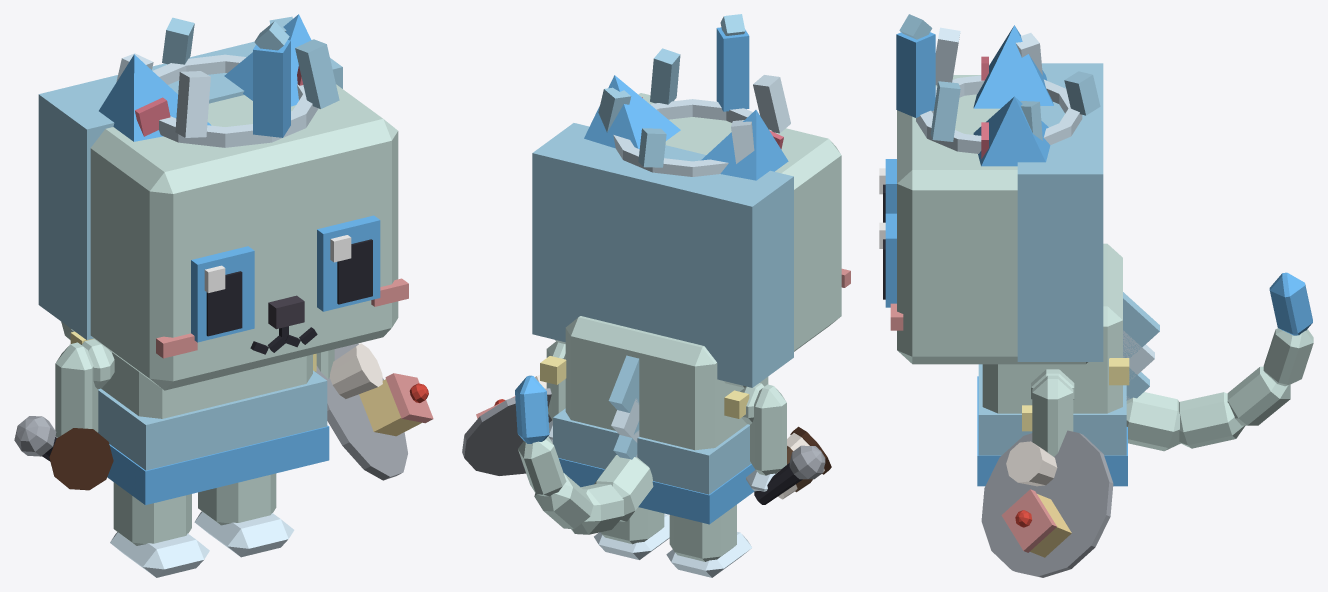
File: CatCafe_Cat_Ice_Work.glb
3 renders of one model, left to right at view 1: azimuth 30°, elevation 25°; view 2: azimuth 150°, elevation 25°; view 3: azimuth 270°, elevation 25°, orthographic. The views are drawn at different scales.
Visible parts, largest first — view 1: CatCafe_Cat_Ice_Work_Head, CatCafe_Cat_Ice_Work_Body, CatCafe_Cat_Ice_Work_Prop2, CatCafe_Cat_Ice_Work_Held_Waiter, CatCafe_Cat_Ice_Work_LegB2, CatCafe_Cat_Ice_Work_LegB1, CatCafe_Cat_Ice_Work_Eye1, CatCafe_Cat_Ice_Work_Eye2, CatCafe_Cat_Ice_Work_EarR, CatCafe_Cat_Ice_Work_Crown_Glow, CatCafe_Cat_Ice_Work_LegF2, CatCafe_Cat_Ice_Work_Held_Barista (+2 smaller); view 2: CatCafe_Cat_Ice_Work_Head, CatCafe_Cat_Ice_Work_Body, CatCafe_Cat_Ice_Work_Tail, CatCafe_Cat_Ice_Work_Prop2, CatCafe_Cat_Ice_Work_LegB2, CatCafe_Cat_Ice_Work_Held_Waiter, CatCafe_Cat_Ice_Work_LegF2, CatCafe_Cat_Ice_Work_Crown_Glow, CatCafe_Cat_Ice_Work_EarL, CatCafe_Cat_Ice_Work_EarR, CatCafe_Cat_Ice_Work_LegB1, CatCafe_Cat_Ice_Work_Prop (+3 smaller); view 3: CatCafe_Cat_Ice_Work_Head, CatCafe_Cat_Ice_Work_Held_Waiter, CatCafe_Cat_Ice_Work_Body, CatCafe_Cat_Ice_Work_Tail, CatCafe_Cat_Ice_Work_Prop2, CatCafe_Cat_Ice_Work_Crown_Glow, CatCafe_Cat_Ice_Work_EarR, CatCafe_Cat_Ice_Work_EarL, CatCafe_Cat_Ice_Work_LegF1, CatCafe_Cat_Ice_Work_Prop, CatCafe_Cat_Ice_Work_Eye1, CatCafe_Cat_Ice_Work_Eye2.
Boxes of the visible parts, x1,y1,x2,y2 form: CatCafe_Cat_Ice_Work_Head: [38, 41, 408, 390]; CatCafe_Cat_Ice_Work_Body: [70, 331, 329, 505]; CatCafe_Cat_Ice_Work_Prop2: [116, 16, 339, 147]; CatCafe_Cat_Ice_Work_Held_Waiter: [315, 343, 433, 480]; CatCafe_Cat_Ice_Work_LegB2: [110, 482, 209, 577]; CatCafe_Cat_Ice_Work_LegB1: [194, 473, 294, 557]; CatCafe_Cat_Ice_Work_Eye1: [317, 215, 380, 311]; CatCafe_Cat_Ice_Work_Eye2: [191, 246, 254, 342]; CatCafe_Cat_Ice_Work_EarR: [99, 54, 211, 141]; CatCafe_Cat_Ice_Work_Crown_Glow: [253, 21, 290, 137]; CatCafe_Cat_Ice_Work_LegF2: [55, 342, 98, 437]; CatCafe_Cat_Ice_Work_Held_Barista: [49, 428, 113, 490]; CatCafe_Cat_Ice_Work_Head: [532, 93, 850, 387]; CatCafe_Cat_Ice_Work_Body: [540, 316, 768, 524]; CatCafe_Cat_Ice_Work_Tail: [515, 375, 653, 534]; CatCafe_Cat_Ice_Work_Prop2: [598, 48, 790, 176]; CatCafe_Cat_Ice_Work_LegB2: [666, 504, 752, 577]; CatCafe_Cat_Ice_Work_Held_Waiter: [462, 375, 552, 475]; CatCafe_Cat_Ice_Work_LegF2: [746, 384, 786, 491]; CatCafe_Cat_Ice_Work_Crown_Glow: [716, 14, 749, 111]; CatCafe_Cat_Ice_Work_EarL: [584, 75, 680, 148]; CatCafe_Cat_Ice_Work_EarR: [701, 110, 788, 180]; CatCafe_Cat_Ice_Work_LegB1: [594, 507, 669, 559]; CatCafe_Cat_Ice_Work_Prop: [608, 355, 639, 459]; CatCafe_Cat_Ice_Work_Head: [890, 63, 1103, 364]; CatCafe_Cat_Ice_Work_Held_Waiter: [981, 430, 1113, 577]; CatCafe_Cat_Ice_Work_Body: [977, 243, 1129, 486]; CatCafe_Cat_Ice_Work_Tail: [1126, 272, 1313, 451]; CatCafe_Cat_Ice_Work_Prop2: [916, 27, 1100, 153]; CatCafe_Cat_Ice_Work_Crown_Glow: [896, 14, 935, 117]; CatCafe_Cat_Ice_Work_EarR: [973, 25, 1053, 108]; CatCafe_Cat_Ice_Work_EarL: [973, 96, 1050, 166]; CatCafe_Cat_Ice_Work_LegF1: [1032, 375, 1073, 456]; CatCafe_Cat_Ice_Work_Prop: [1123, 292, 1159, 400]; CatCafe_Cat_Ice_Work_Eye1: [879, 213, 896, 307]; CatCafe_Cat_Ice_Work_Eye2: [879, 159, 896, 222].
Size of the model in its own units: 1.53 by 2.11 by 1.62.
Materials: 1 (1 with a texture image).
